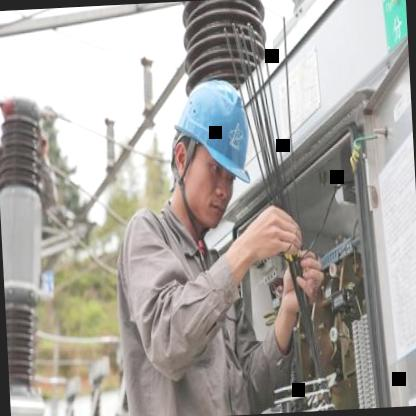helmet: (160, 55, 266, 237)
